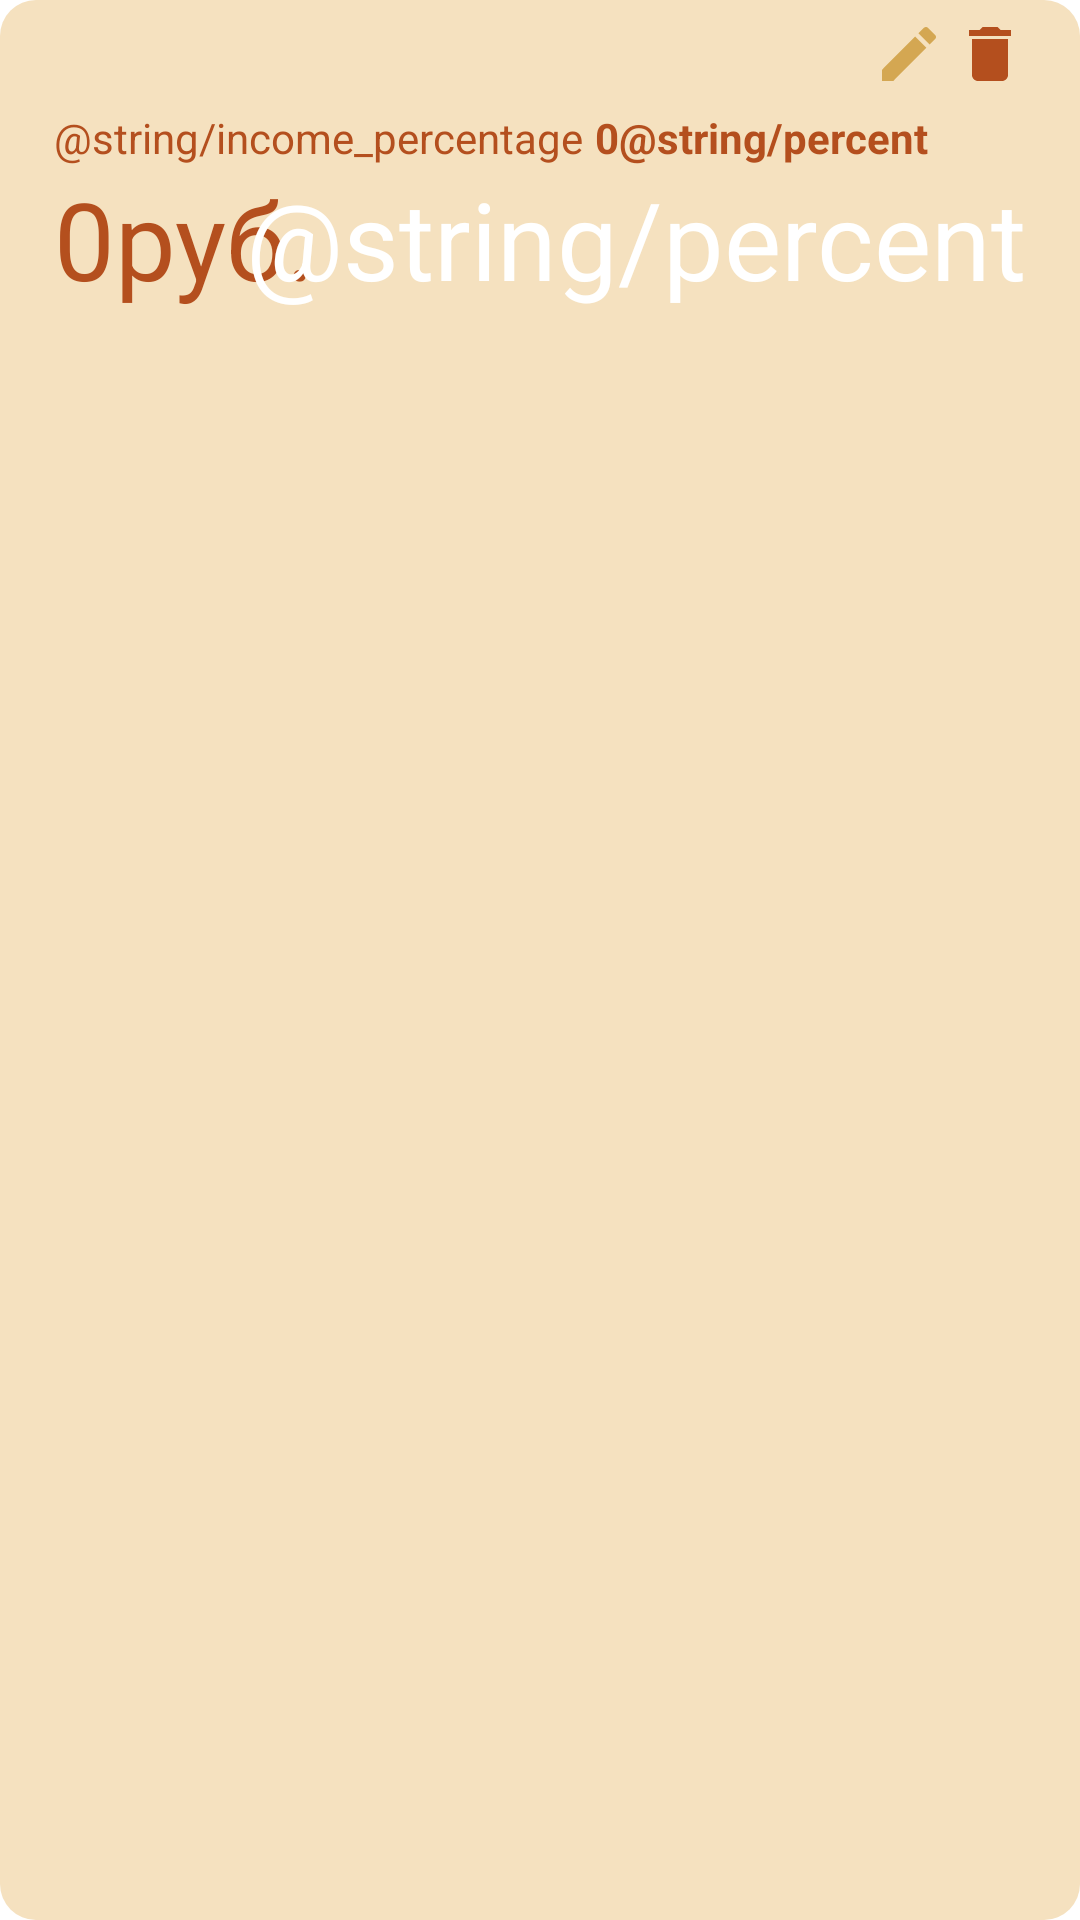

Screen size 1080w x 1920h. Icon name, then its center in pixels as point (x, y):
delete: point (990, 54)
edit: point (909, 54)
